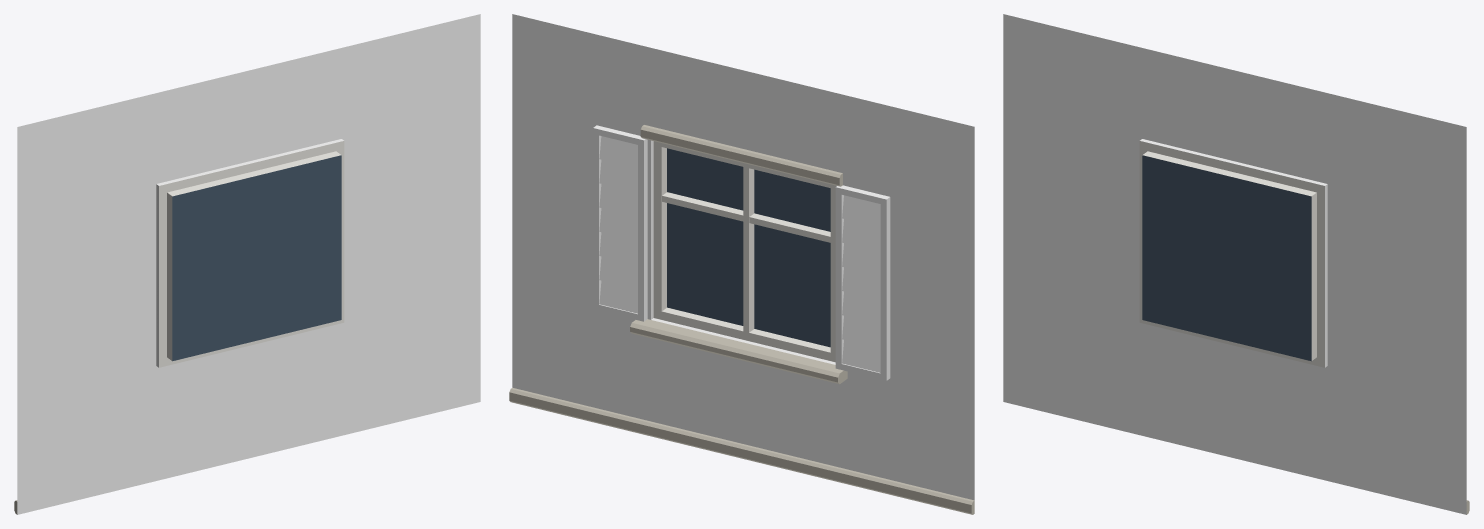
File: apt_win_a.glb
The picture shows the model from 3 angles, left to right: view 1: azimuth 30°, elevation 25°; view 2: azimuth 150°, elevation 25°; view 3: azimuth 330°, elevation 25°; orthographic projection.
Visible parts, largest first — view 1: apt_win_a__mesh; view 2: apt_win_a__mesh; view 3: apt_win_a__mesh.
Part boxes in pixels (<box>): apt_win_a__mesh: <box>14,14,480,514</box>; apt_win_a__mesh: <box>509,14,974,514</box>; apt_win_a__mesh: <box>1003,14,1469,514</box>.
Size of what is drawn, in the model's own units: 4 by 3.2 by 0.26.
Materials: 2 (1 with a texture image).
